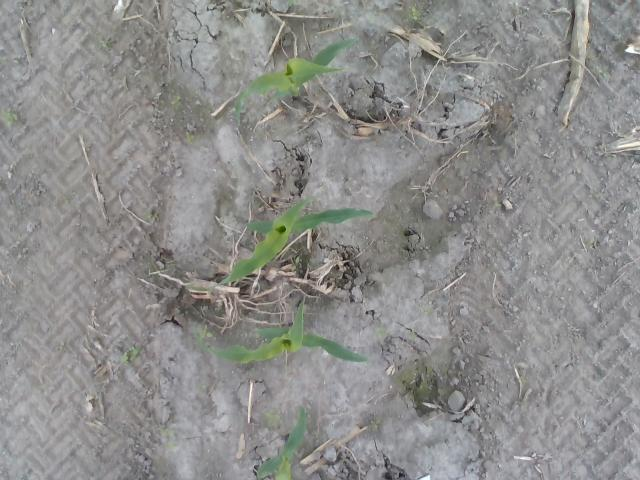Maize: (185, 195, 374, 292), (194, 295, 370, 363), (234, 38, 360, 124), (256, 405, 307, 480)
Weeds: (194, 322, 214, 341), (160, 430, 176, 452), (120, 347, 140, 364), (266, 409, 282, 427), (1, 111, 18, 127), (377, 327, 391, 341), (411, 6, 424, 20), (596, 66, 610, 78), (170, 96, 183, 107), (144, 210, 156, 221), (405, 330, 418, 340), (369, 420, 382, 430), (98, 40, 109, 51), (420, 306, 432, 316), (291, 256, 299, 270), (493, 196, 502, 208), (187, 131, 194, 145), (286, 0, 296, 9), (590, 236, 598, 246), (520, 377, 526, 387), (58, 342, 64, 350), (588, 54, 596, 60)
